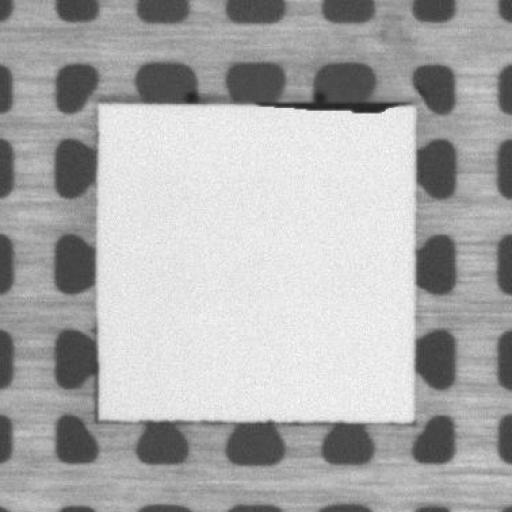DIE_BROKEN: (255, 93, 409, 114)
